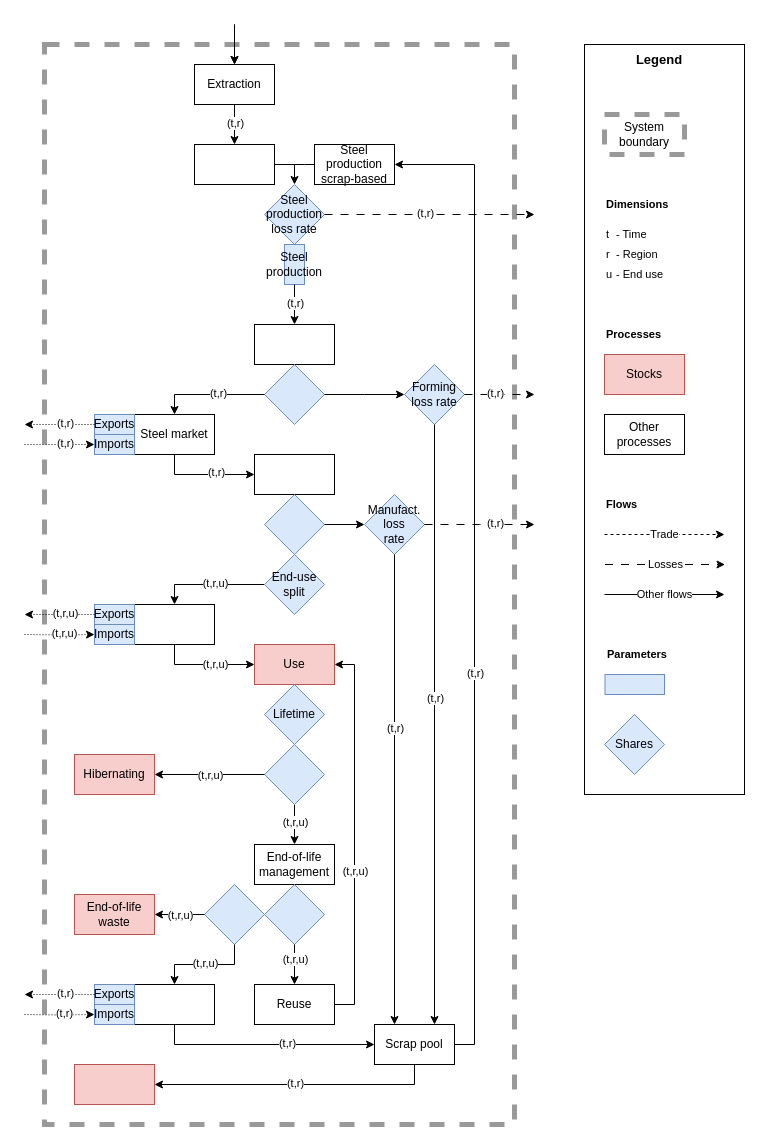
Some shapes in this 762 by 1144 pixel diagram are drawn without their labels. Each missing label, with the box of its shape:
Absolute: (604, 674, 664, 694)
Excess scrap: (74, 1064, 154, 1104)
Forming: (254, 324, 334, 364)
Forming yield: (264, 364, 324, 424)
Hibernation share: (264, 744, 324, 804)
Manufact. yield: (264, 494, 324, 554)
Manufactured products market: (134, 604, 214, 644)
Manufacturing: (254, 454, 334, 494)
Old scrap market: (134, 984, 214, 1024)
Recovery rate: (204, 884, 264, 944)
Reuse share: (264, 884, 324, 944)
Steel production ore-based: (194, 144, 274, 184)
